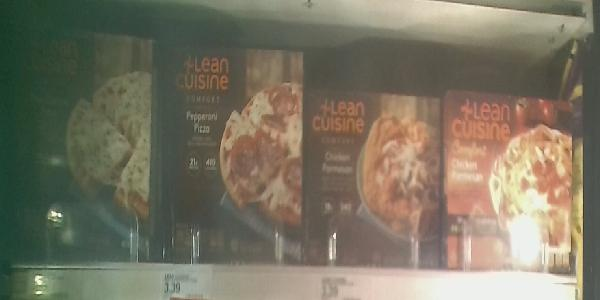pizza1: (2, 15, 160, 262), (164, 43, 307, 261), (442, 86, 573, 276), (307, 86, 440, 266)
